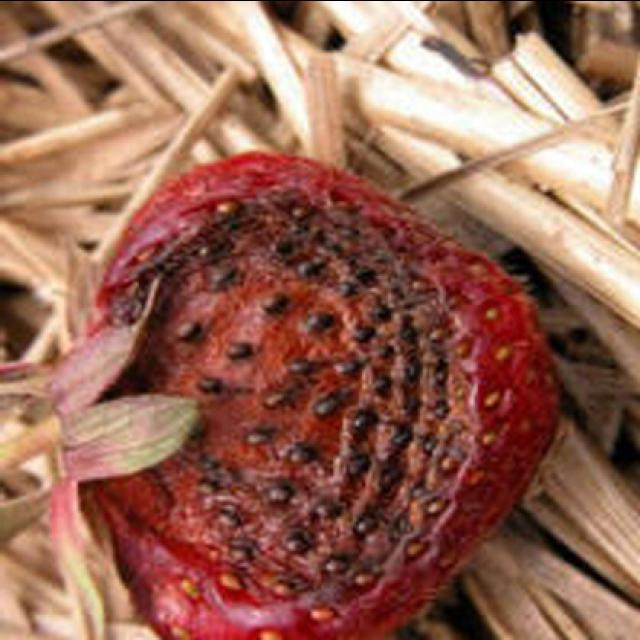Anthracnose Fruit Rot: (175, 239, 447, 579)
